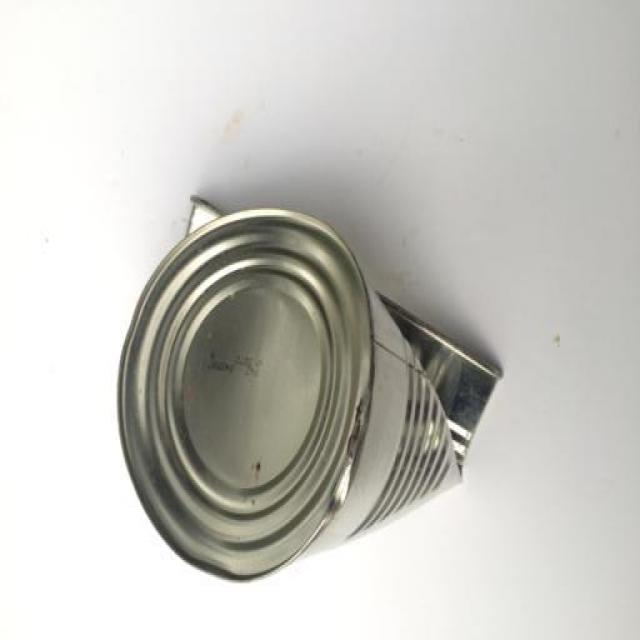metel: (113, 196, 519, 586)
